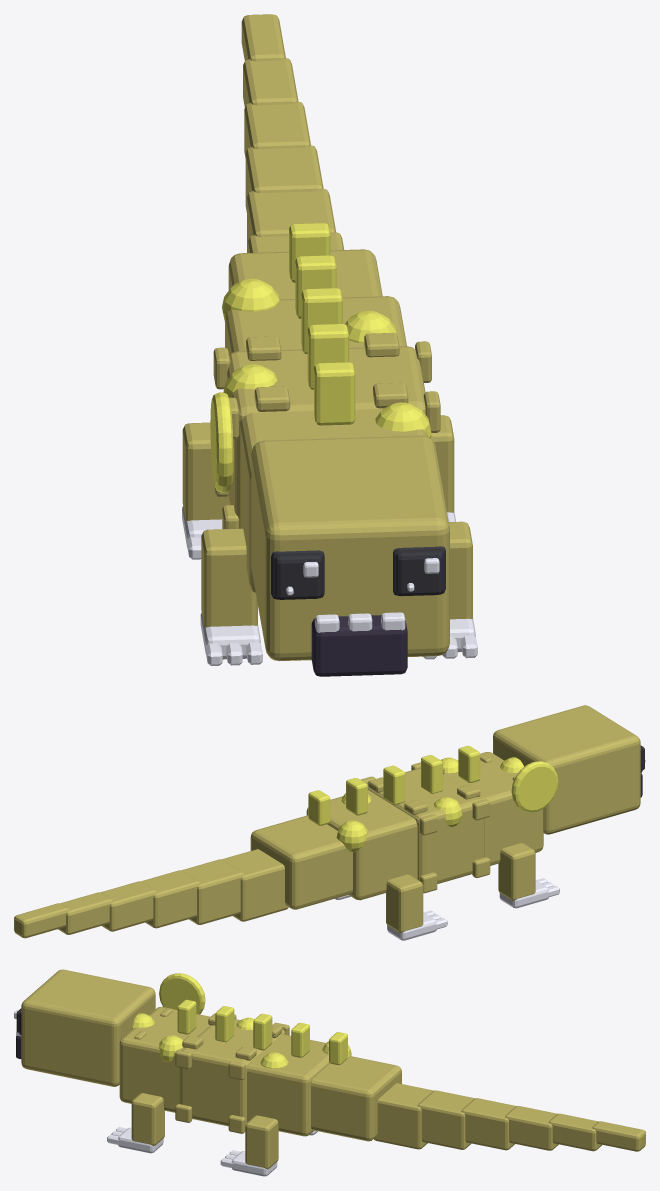
Rendered from GoldGecko.obj.
3 views of the same model, one above another, from view 1: azimuth 30°, elevation 25°; view 2: azimuth 150°, elevation 25°; view 3: azimuth 270°, elevation 25° (orthographic). The views are drawn at different scales.
Visible parts, largest first — view 1: GoldGecko; view 2: GoldGecko; view 3: GoldGecko.
Part boxes in pixels (bbox=[...]): GoldGecko: bbox=[182, 14, 477, 676]; GoldGecko: bbox=[14, 705, 645, 940]; GoldGecko: bbox=[14, 969, 645, 1176].
Size of the model in its own units: 1.38 by 0.5778 by 2.58.
